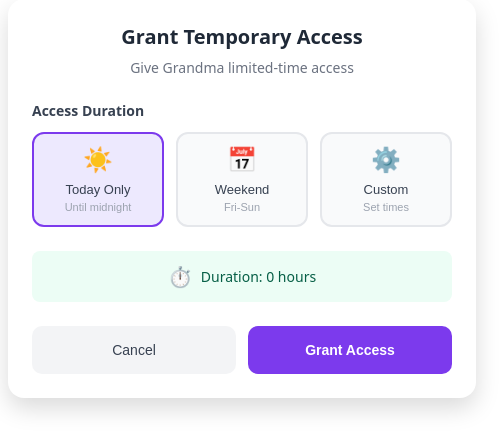
it: TemporaryAccessGrantForm › Form Submission › shows success state after successful submission
This screenshot has width=500, height=432.
Click the button with test id "submit-button" at (350, 350), box 248,326 -> 452,374
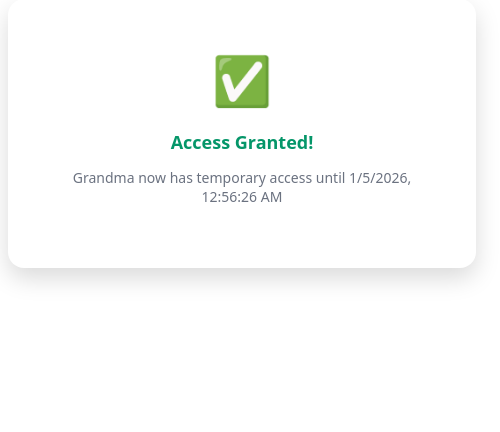
Expected: the text "Access Granted!" is shown, 171,130 -> 313,154
